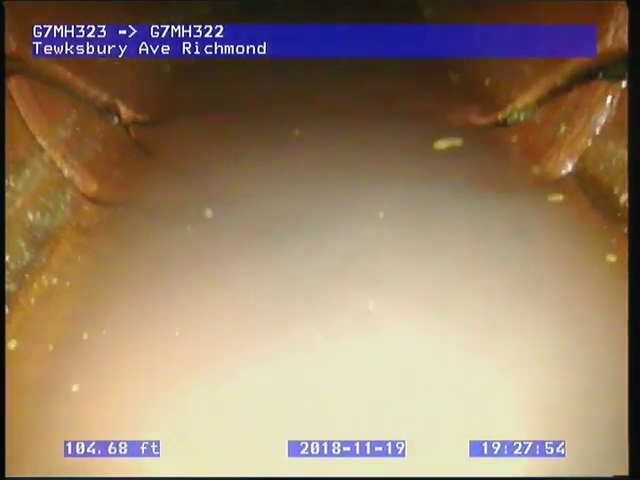crack: (6, 49, 181, 174), (454, 48, 627, 136)
